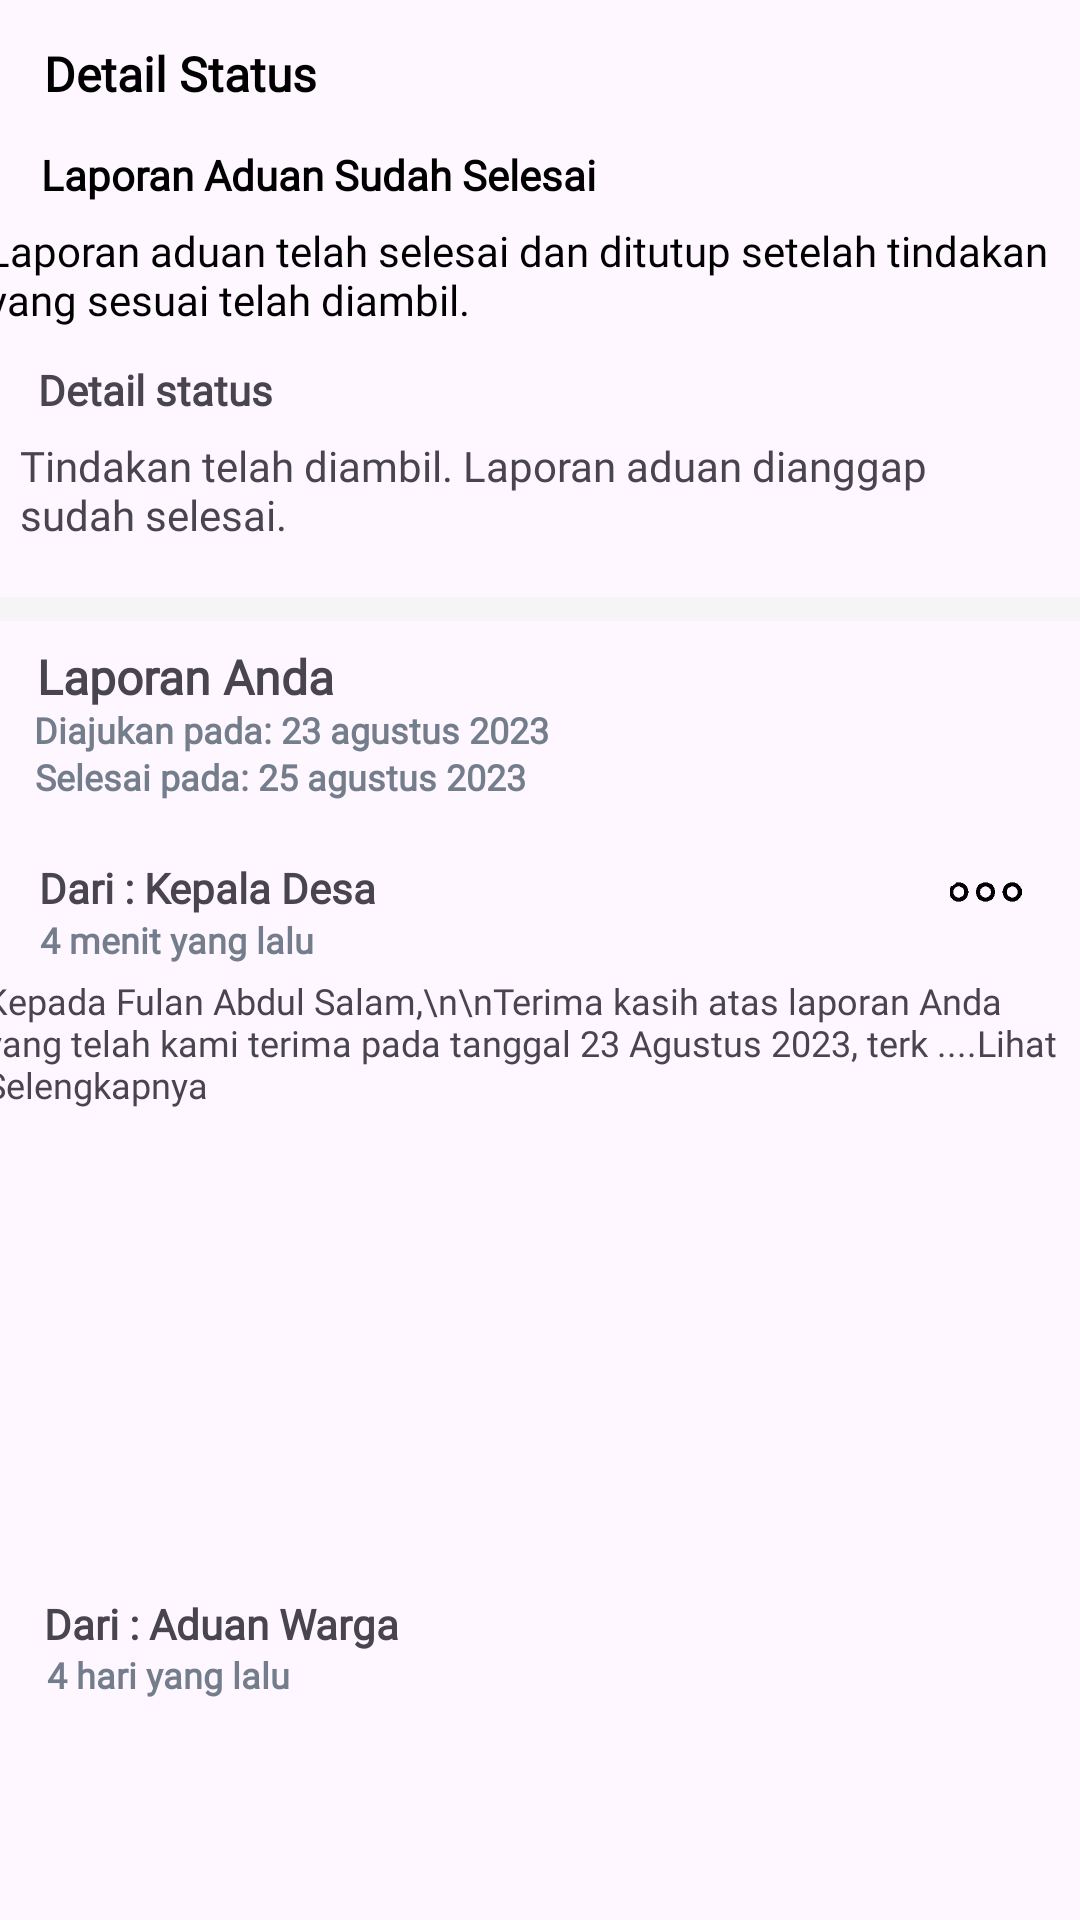

Where to tap for icons on this 1080 × 1920 app screen, as [x,y]:
options: [986,892]
